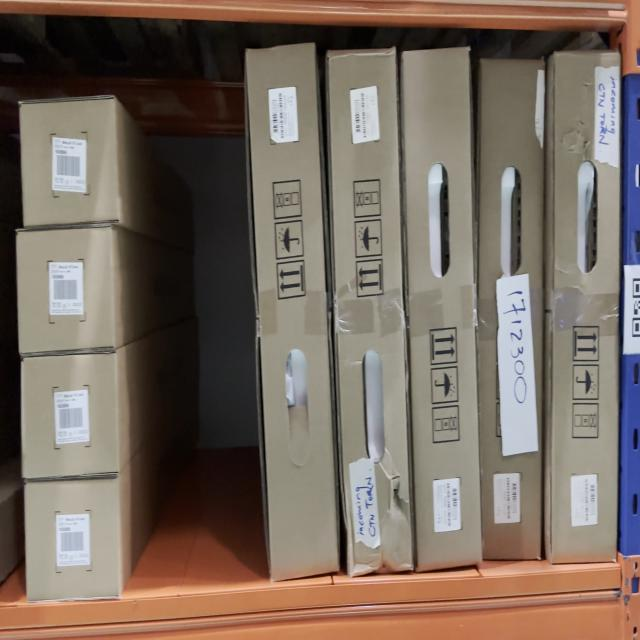box: (246, 43, 341, 582), (327, 47, 414, 577), (401, 44, 483, 574), (548, 48, 617, 567), (480, 58, 544, 565), (24, 98, 114, 224), (24, 354, 116, 476), (19, 234, 113, 348), (26, 483, 118, 598)
